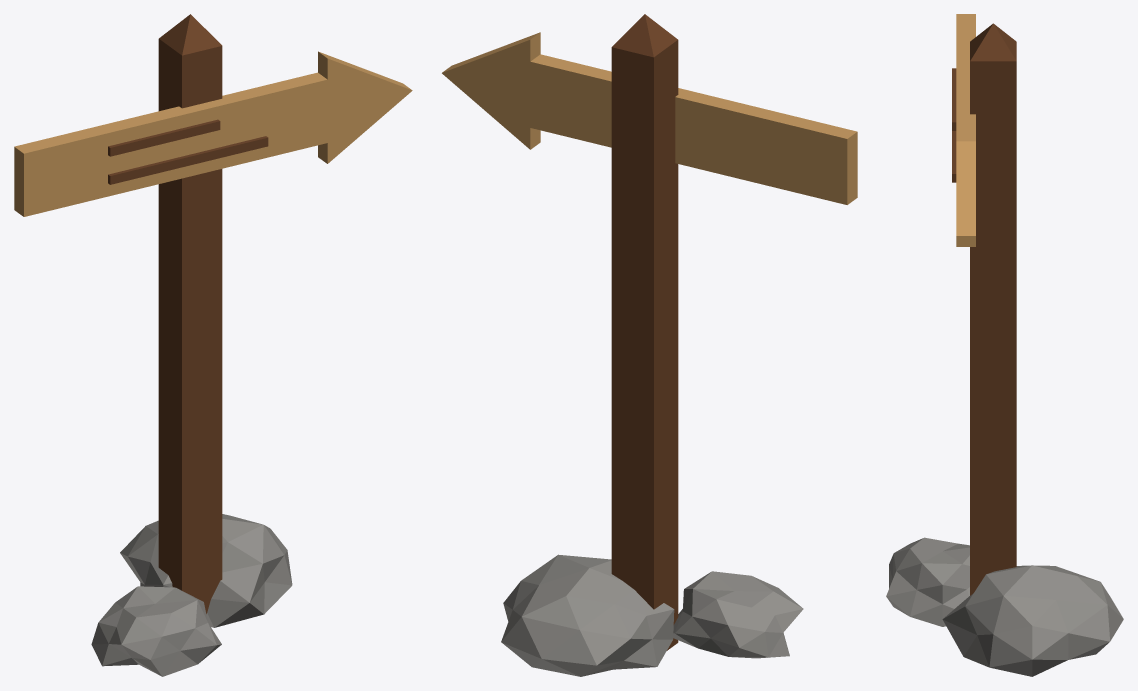
File: signpost-arrow-pixor.glb
The picture shows the model from 3 angles, left to right: view 1: azimuth 30°, elevation 25°; view 2: azimuth 150°, elevation 25°; view 3: azimuth 270°, elevation 25°; orthographic projection. The views are drawn at different scales.
Visible parts, largest first — view 1: Sign post, Sign face, Sign stones, Sign lettering; view 2: Sign post, Sign face, Sign stones; view 3: Sign post, Sign stones, Sign face, Sign lettering.
Boxes of the visible parts, x1,y1,x2,y2 form: Sign post: (158, 14, 222, 613); Sign face: (14, 51, 412, 216); Sign stones: (91, 514, 292, 676); Sign lettering: (108, 119, 268, 184); Sign post: (611, 14, 678, 650); Sign face: (442, 32, 857, 204); Sign stones: (501, 554, 803, 676); Sign post: (970, 23, 1016, 595); Sign stones: (886, 537, 1123, 676); Sign face: (956, 14, 975, 246); Sign lettering: (952, 68, 956, 182).
Bounding box in the file's own units: 1.16 × 1.72 × 0.6107.
